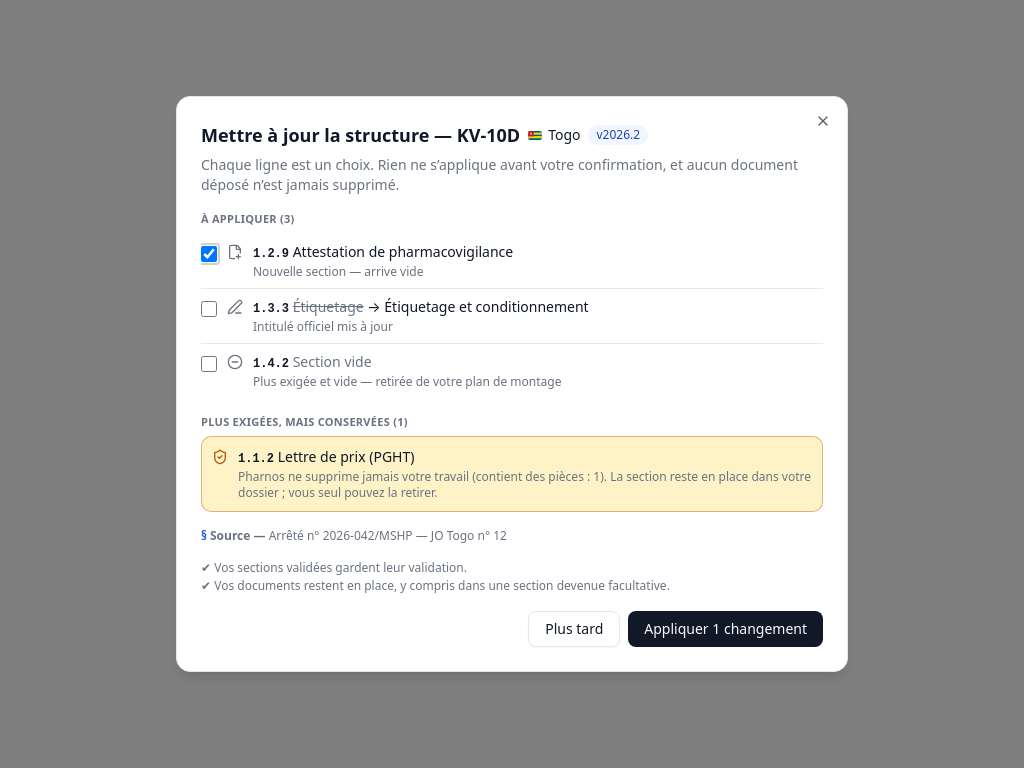
Test: StructureMergeDialog › tout décocher DÉSACTIVE l’action (jamais un clic qui ne fait rien)
Click the 1st checkbox.
click(209, 254)  # box [201,246,217,262]
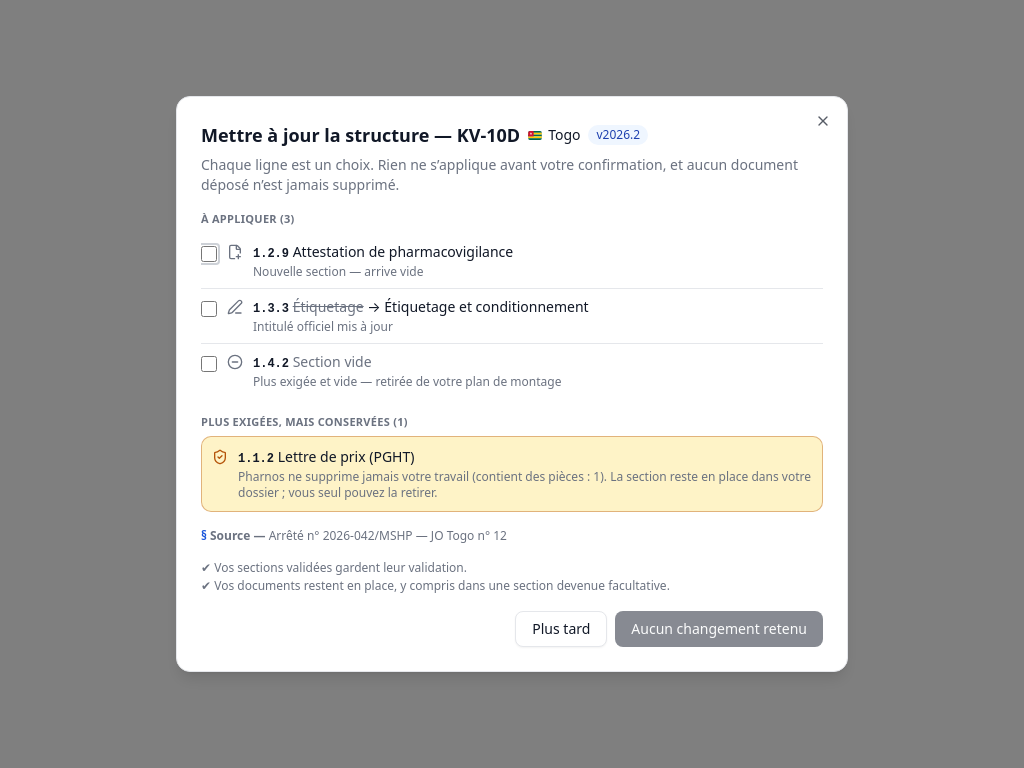
Now the button "Aucun changement retenu" is disabled, box [615,611,823,647]
